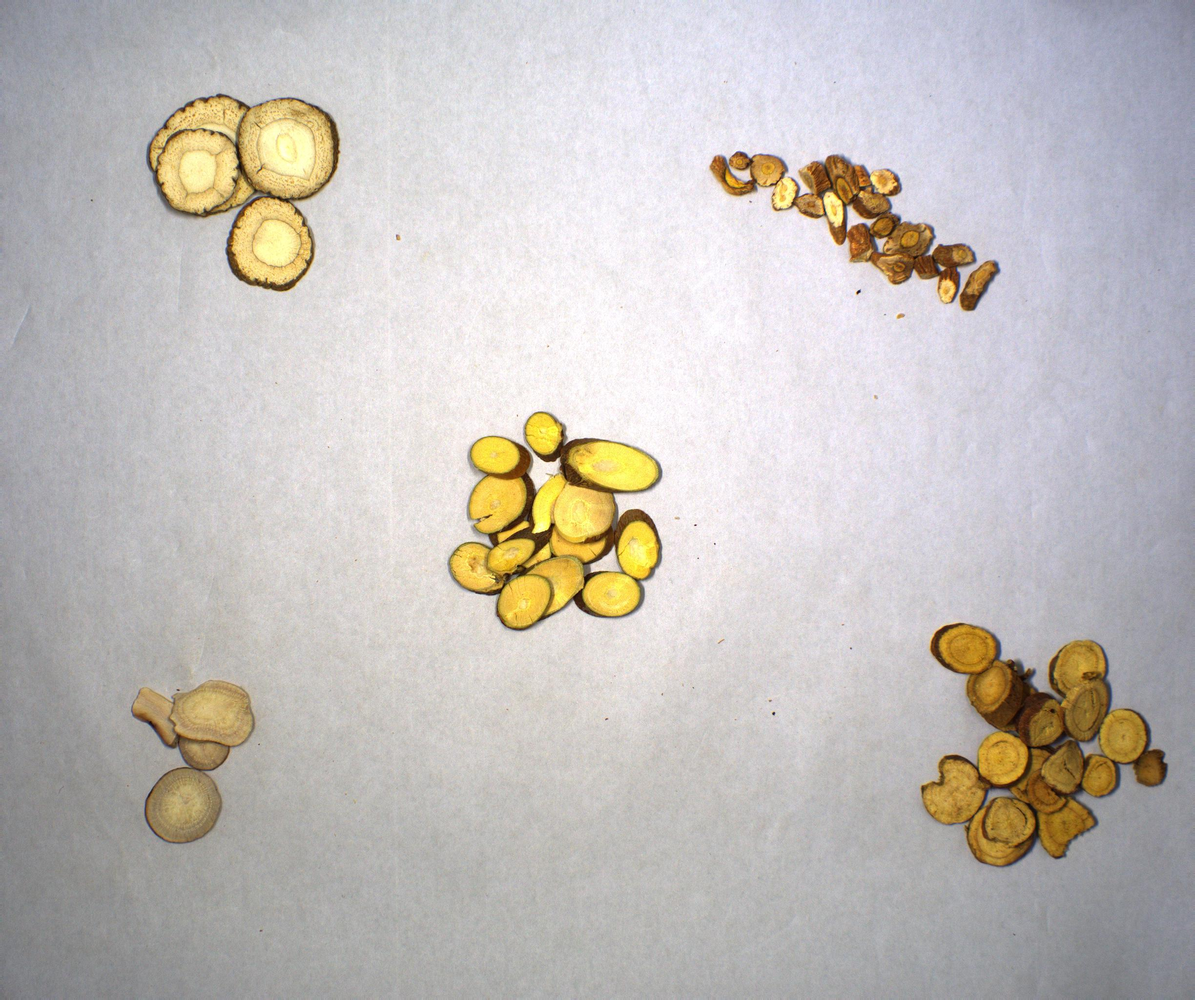baishao: (131, 673, 258, 845)
baizhi: (143, 93, 341, 295)
banlangen: (709, 147, 1003, 317)
gancaopian: (920, 619, 1169, 871)
sangzhi: (446, 409, 664, 634)
